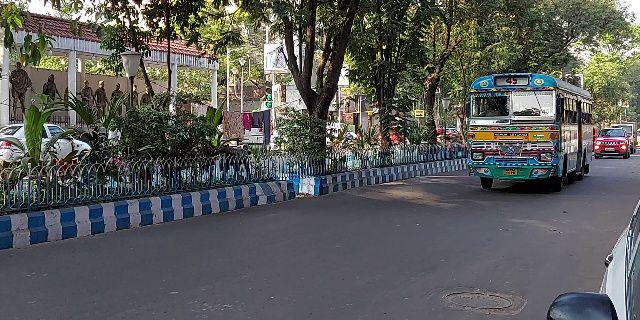Bus: (465, 71, 596, 197)
Car: (595, 123, 631, 162)
